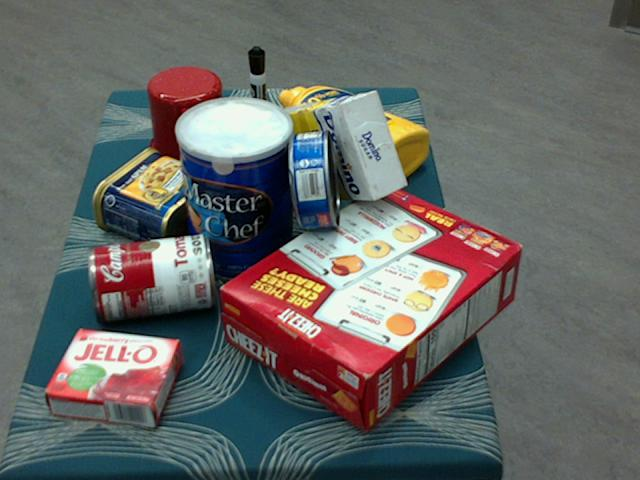cracker_box: (218, 182, 522, 430)
gelatin_box: (45, 327, 181, 426)
large_marker: (247, 46, 268, 149)
master_chef_can: (174, 99, 293, 284)
mug: (146, 67, 231, 168)
mustard_bottle: (277, 85, 428, 187)
potted_meat_can: (92, 148, 221, 250)
sugar_box: (262, 92, 405, 201)
tomato_soup_can: (86, 234, 212, 320)
tuna_fish_can: (289, 128, 340, 227)
